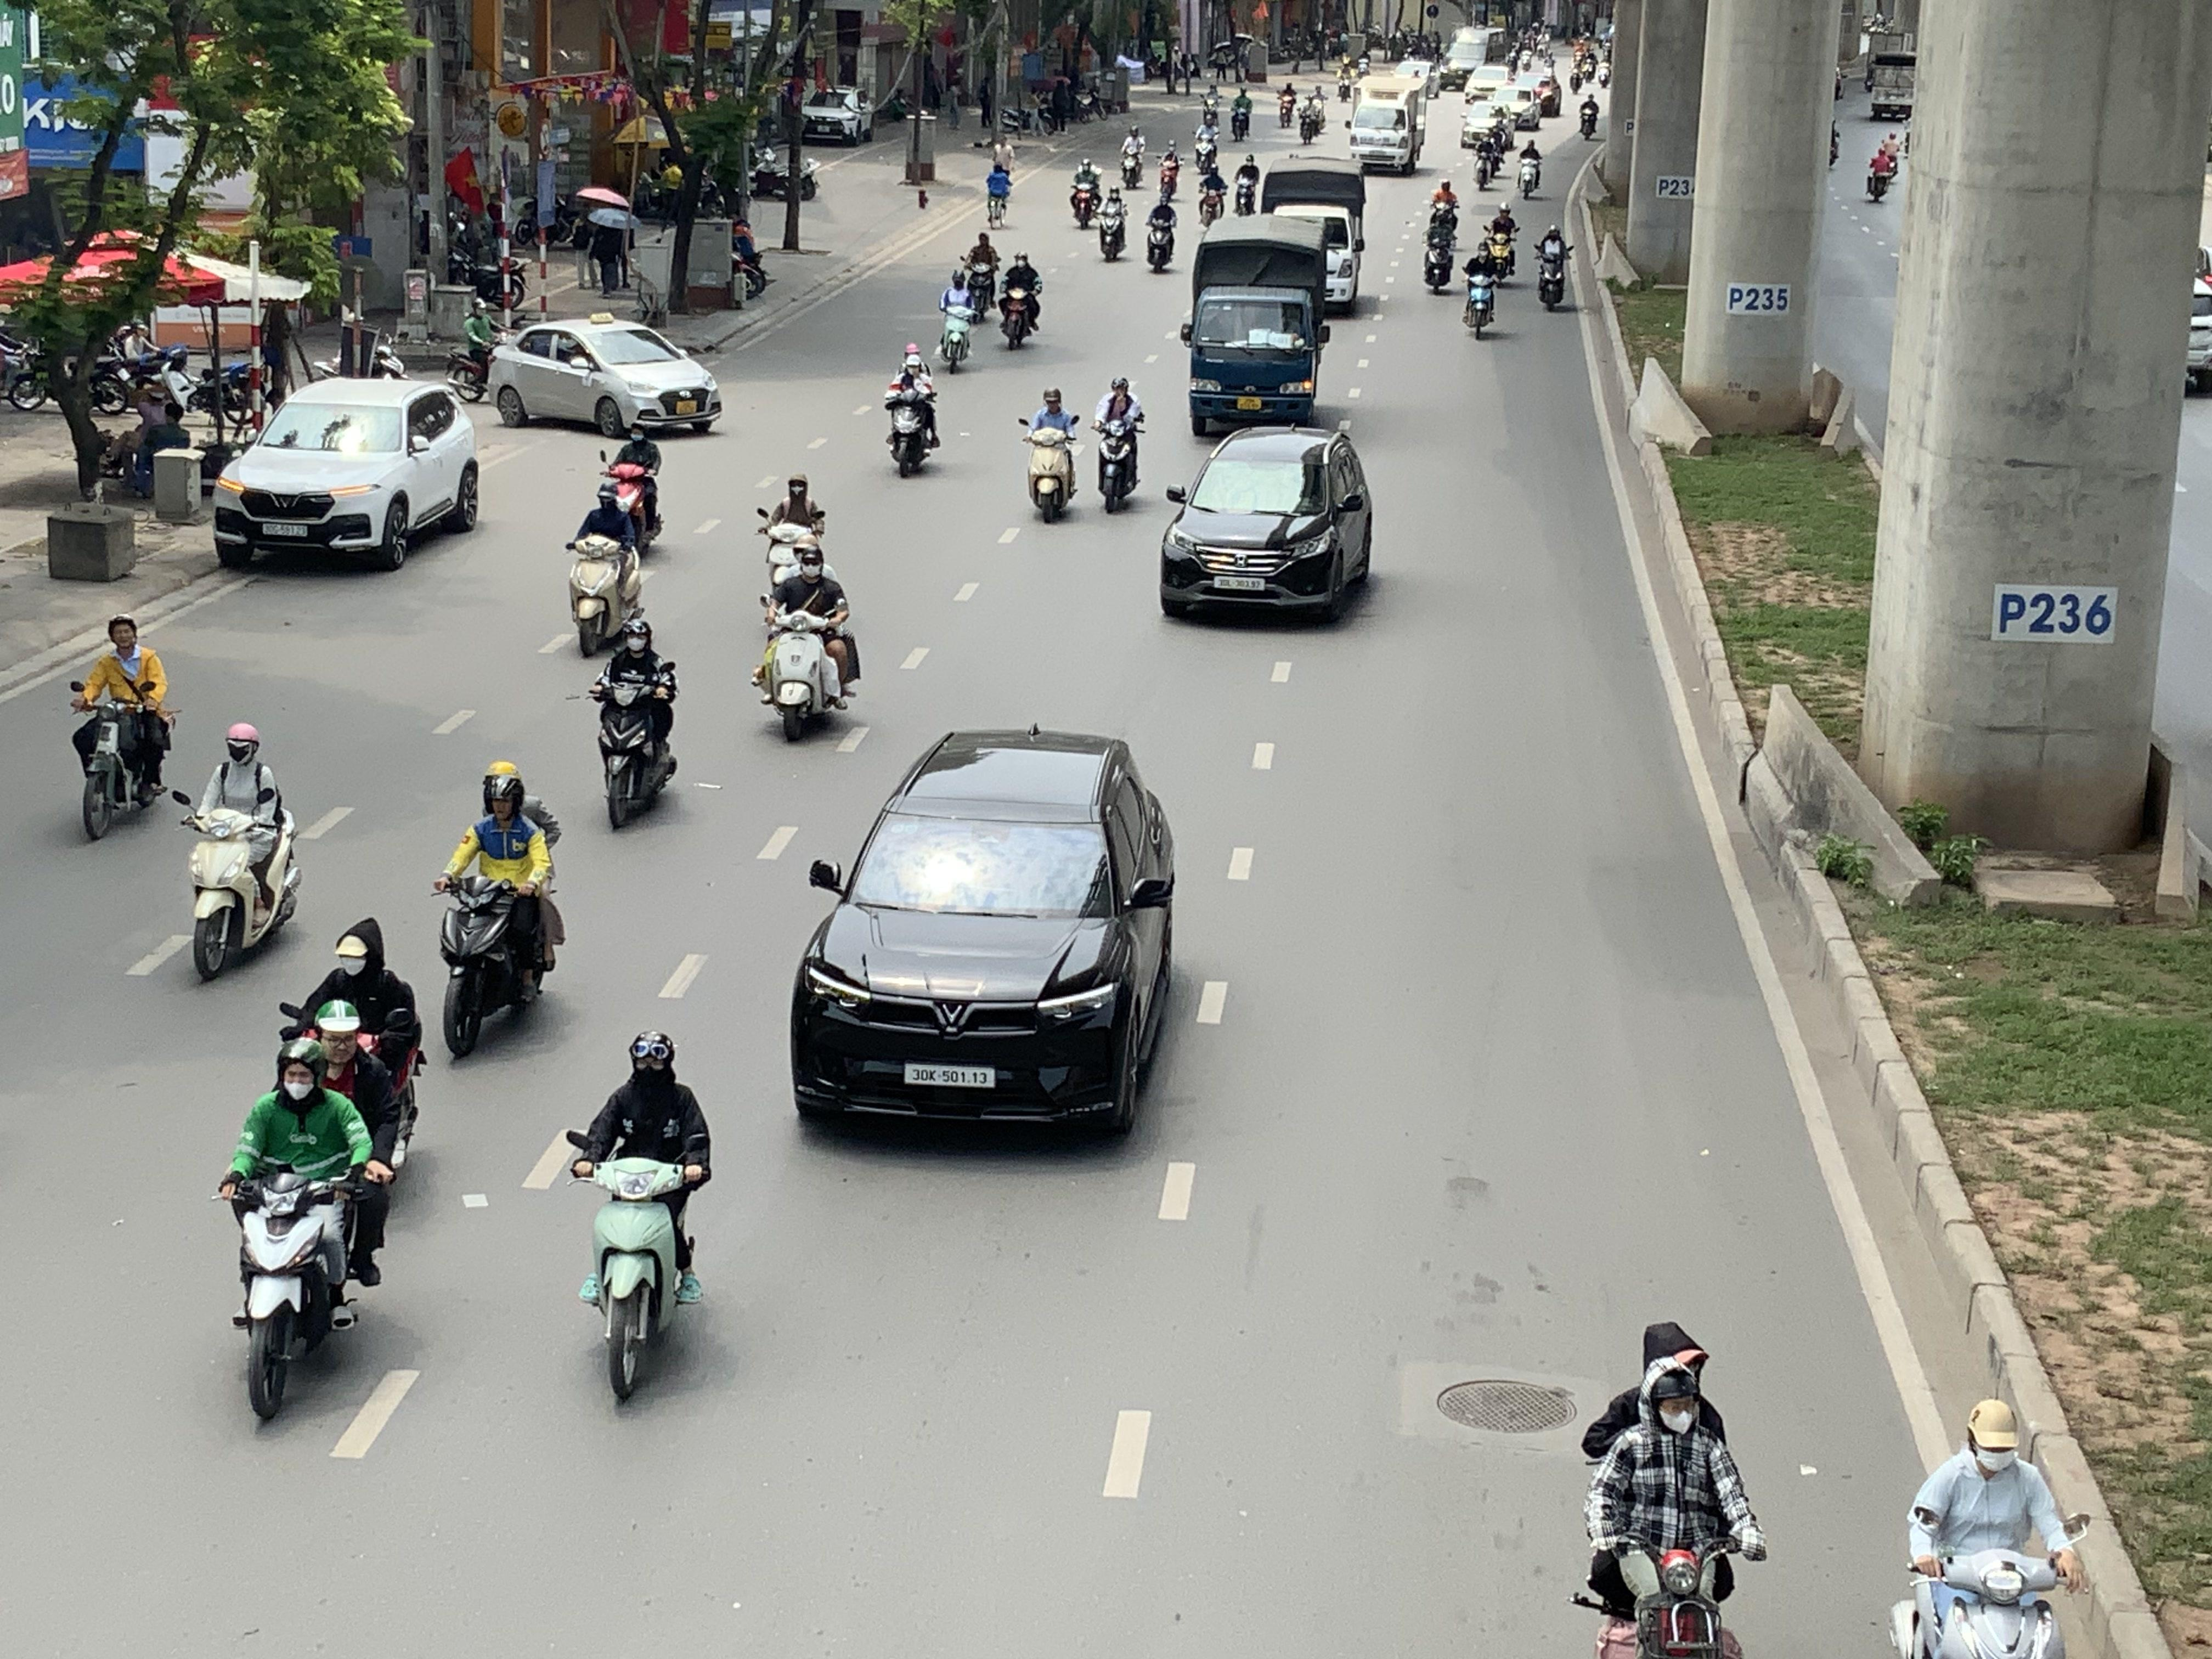BSD: (904, 1065, 996, 1087), (1212, 575, 1264, 589), (265, 521, 307, 535)
car: (789, 725, 1179, 1141), (212, 375, 482, 572), (1160, 425, 1376, 626), (488, 319, 723, 437), (799, 87, 874, 145)
motorbike: (218, 1030, 385, 1429), (1575, 1319, 1764, 1659), (568, 1030, 711, 1408), (1888, 1398, 2088, 1659), (279, 917, 425, 1190), (434, 760, 563, 1061), (178, 721, 303, 985), (70, 615, 176, 842), (754, 538, 859, 744), (590, 613, 679, 831), (564, 477, 643, 657), (756, 472, 827, 605), (601, 422, 664, 556), (1019, 385, 1080, 523), (883, 343, 941, 477), (1094, 375, 1146, 514), (446, 298, 505, 403), (0, 312, 51, 413), (996, 247, 1043, 350), (935, 272, 975, 373), (1533, 218, 1575, 310), (960, 230, 1001, 322), (1461, 240, 1500, 338), (1482, 200, 1522, 284), (1143, 188, 1181, 272), (1421, 207, 1458, 295), (1096, 179, 1130, 263), (1069, 155, 1103, 230), (1195, 160, 1226, 230), (982, 162, 1015, 227), (1118, 122, 1146, 190), (1515, 138, 1545, 199), (1474, 129, 1503, 190), (1231, 155, 1261, 216), (1193, 113, 1221, 174), (1864, 146, 1892, 204), (1428, 178, 1460, 228), (1228, 84, 1254, 143), (1157, 141, 1183, 199), (1576, 84, 1602, 141), (1298, 94, 1320, 146), (1277, 80, 1299, 131), (1200, 84, 1221, 124)
truck: (1181, 213, 1332, 437), (1345, 66, 1432, 176)
